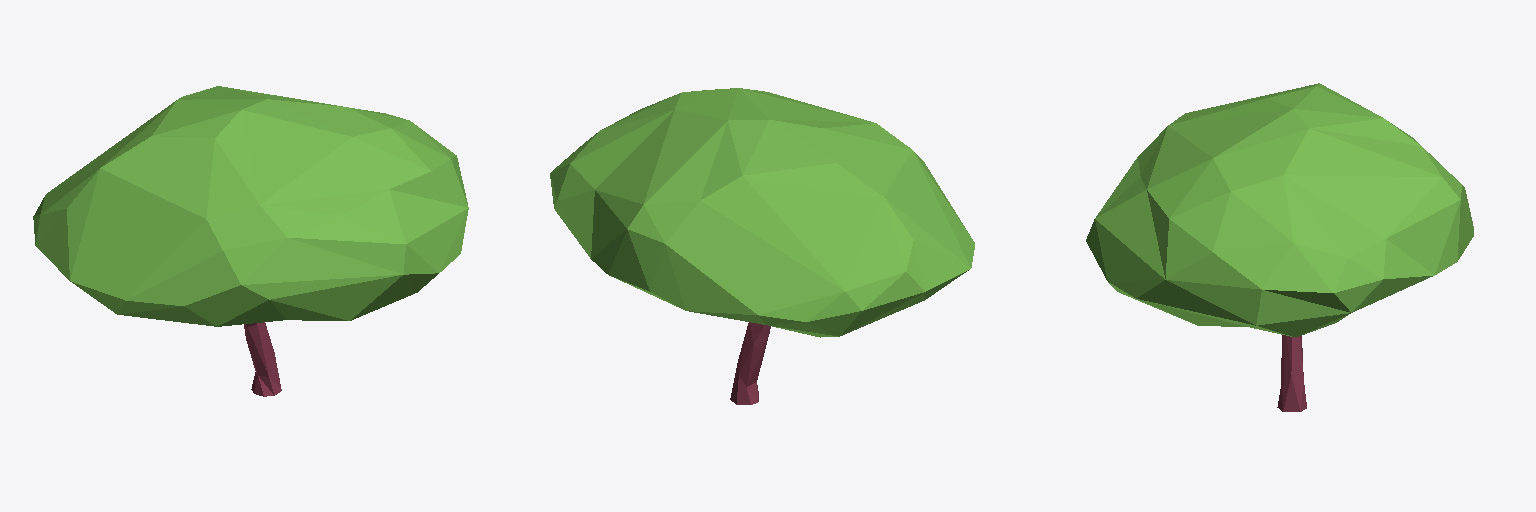
Rendered from tree-spreading.obj.
3 views of the same model, side by side, from view 1: azimuth 30°, elevation 25°; view 2: azimuth 150°, elevation 25°; view 3: azimuth 270°, elevation 25° (orthographic).
Parts seen in each view (by area): view 1: leaves_Icosphere.002, trunk_Cube; view 2: leaves_Icosphere.002, trunk_Cube; view 3: leaves_Icosphere.002, trunk_Cube.
Boxes of the visible parts, <box> form: leaves_Icosphere.002: <box>33,86,468,326</box>; trunk_Cube: <box>244,322,281,396</box>; leaves_Icosphere.002: <box>550,88,974,337</box>; trunk_Cube: <box>730,322,770,404</box>; leaves_Icosphere.002: <box>1086,83,1473,337</box>; trunk_Cube: <box>1277,335,1306,411</box>.
Size of the model in its own units: 13.62 by 9.58 by 11.77.